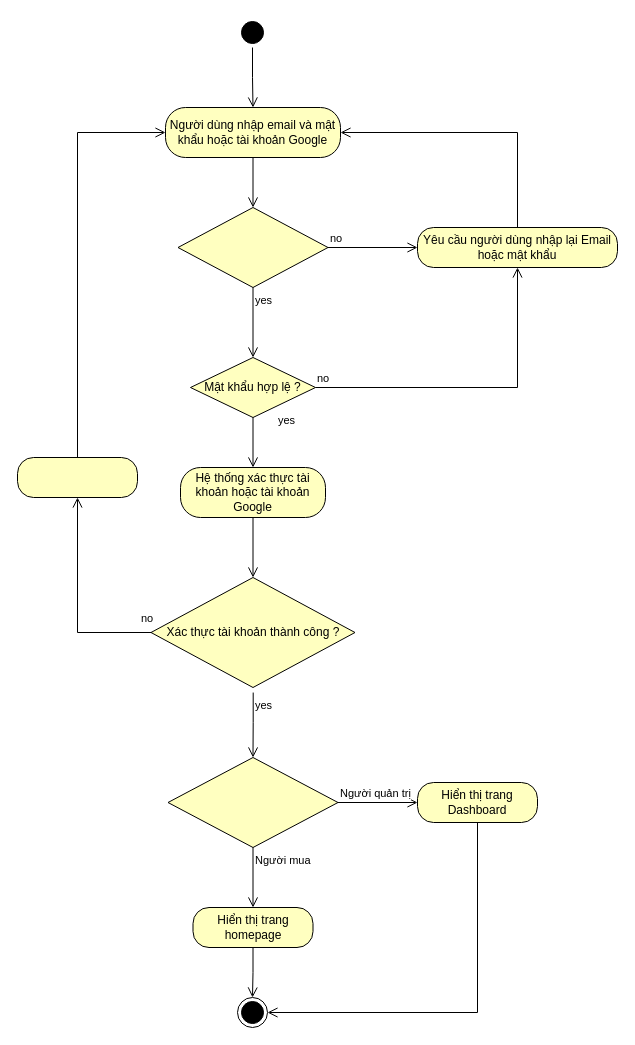
The diagram is 635 pixels wide and 1045 high, and some of its shapes have lost their labels. The shapes that lost their labels are listed below. From the top down, each one's centre as x and y in pixels, then its label:
At (252,247): "Email hợp lệ ?".
At (77,477): "Thông báo lỗi xác thực".
At (252,802): "Kiểm tra vai trò".
